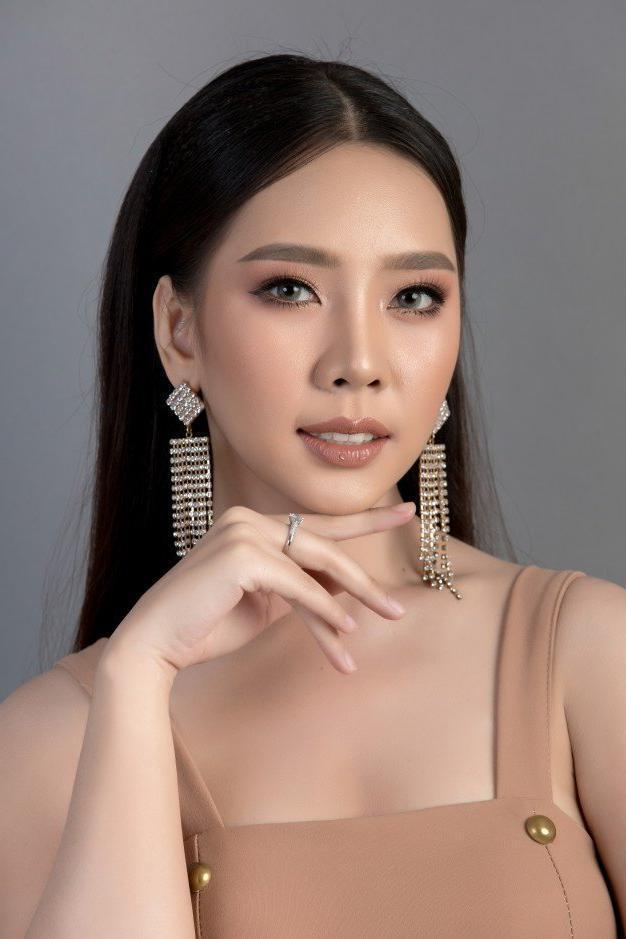Sober: (217, 180, 462, 481)
